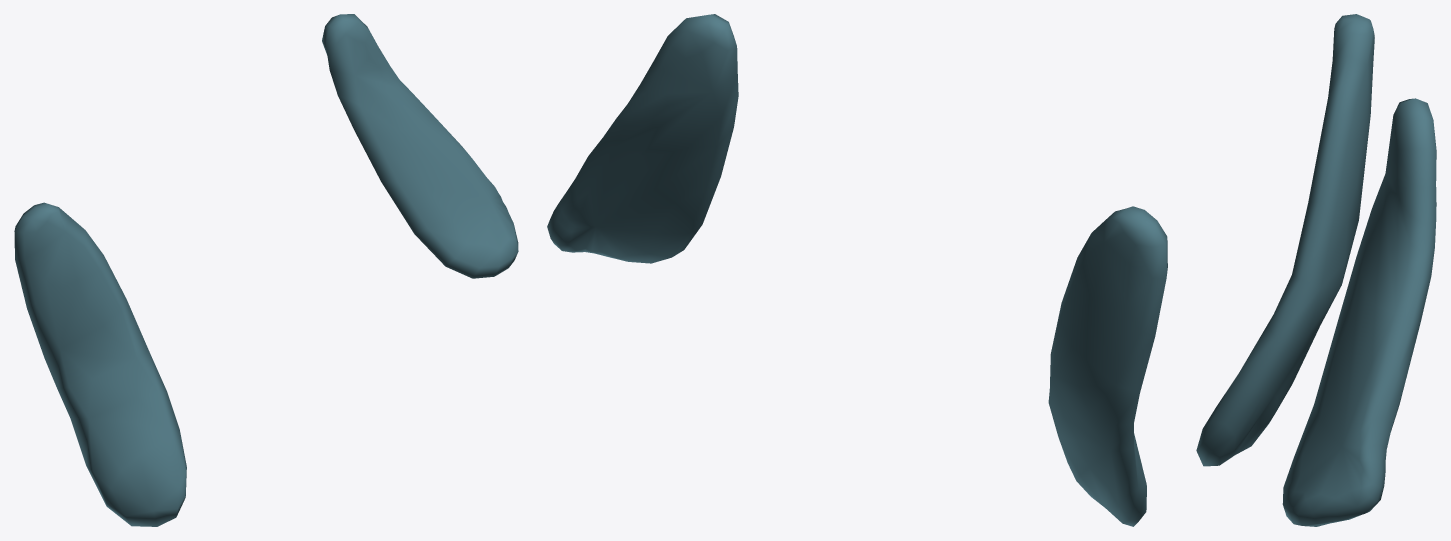
The model's file is Flexor_digitorum_superficialis-middle_phalanx_of_2d_finger._Gen.glb.
3 views of the same model, side by side, from view 1: azimuth 30°, elevation 25°; view 2: azimuth 150°, elevation 25°; view 3: azimuth 270°, elevation 25° (orthographic). The views are drawn at different scales.
Visible parts, largest first — view 1: Flexor_digitorum_superficialis-middle_phalanx_of_2d_finger._; view 2: Flexor_digitorum_superficialis-middle_phalanx_of_2d_finger._; view 3: Flexor_digitorum_superficialis-middle_phalanx_of_2d_finger._.
Part boxes in pixels (x1,y1,x2,y2): Flexor_digitorum_superficialis-middle_phalanx_of_2d_finger._: (14, 14, 518, 526); Flexor_digitorum_superficialis-middle_phalanx_of_2d_finger._: (547, 14, 1167, 526); Flexor_digitorum_superficialis-middle_phalanx_of_2d_finger._: (1196, 14, 1436, 526).
Bounding box in the file's own units: 0.00904 × 0.00689 × 0.00278.
